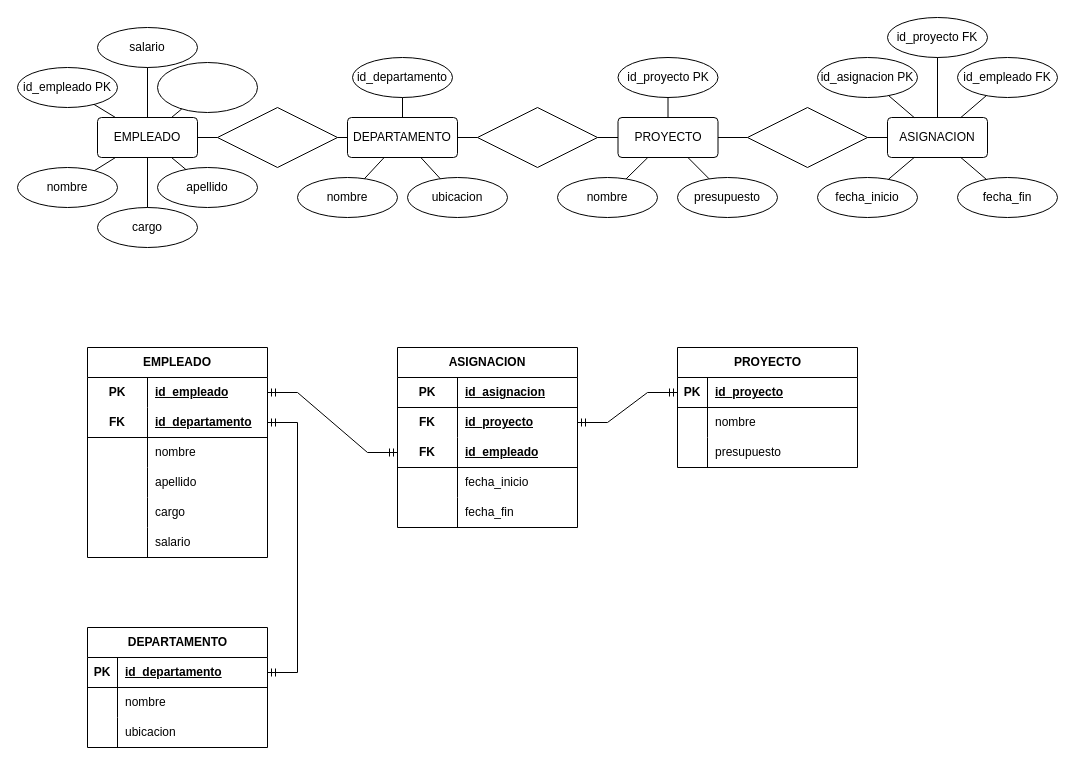
Some shapes in this 1075 by 765 pixel diagram are drawn without their labels. The shapes that lost their labels are listed below. From the top down, each one's centre as x and y in pixels, then its label:
At [207,87]: "id_departamento FK".
At [277,137]: "entra".
At [537,137]: "tienen".
At [807,137]: "hay".
